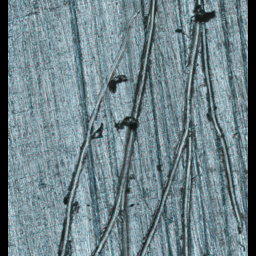d: (47, 0, 246, 255)
